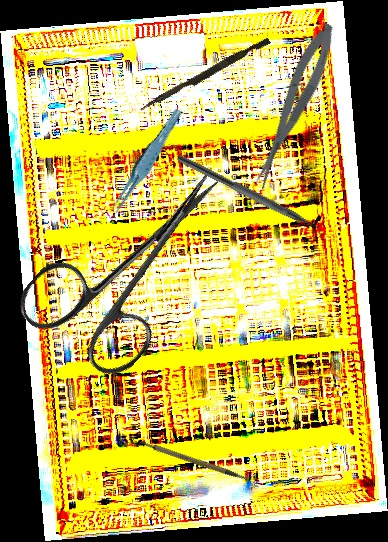Chopper: (170, 153, 334, 246)
Iris Scissors: (9, 127, 265, 393)
Micro Scissor: (242, 19, 345, 192)
Pusher: (139, 34, 271, 116)
Scalpel Handle: (138, 426, 249, 498)
Tissue Forceps: (98, 107, 191, 220)
